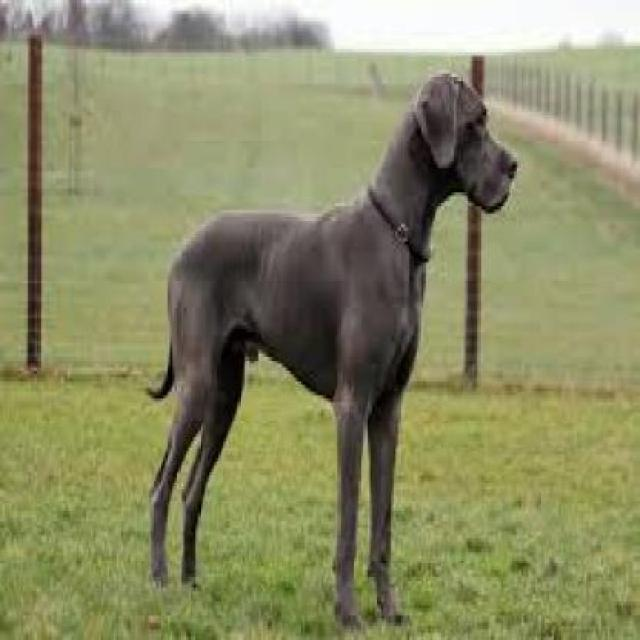animals: (129, 59, 525, 633)
